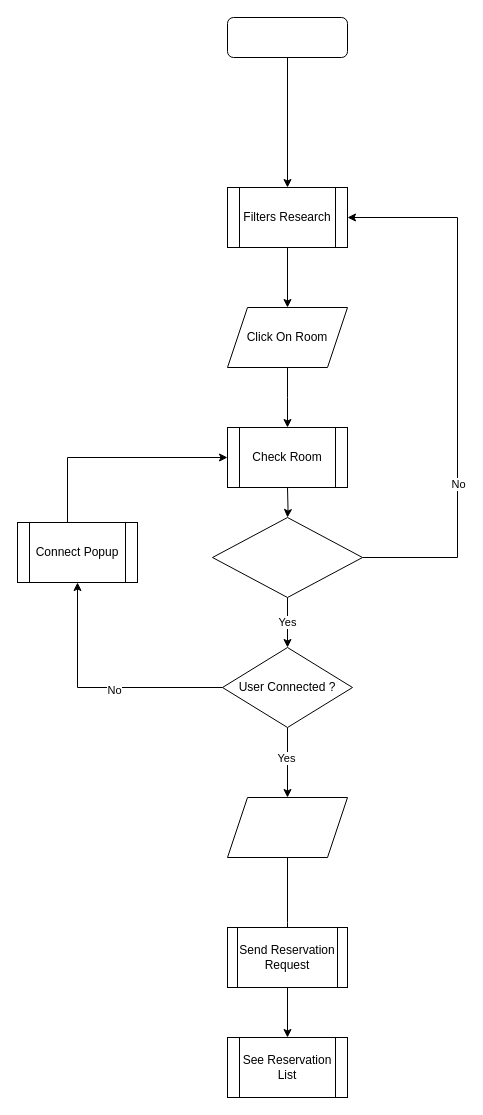
Some shapes in this 483 by 1115 pixel diagram are drawn without their labels. Here are the shapes that lost their labels. From the top down, the centre of each, then its label:
[287,37]: Non Connected User
[287,557]: Make Reservation ?
[287,827]: Validate Choice
